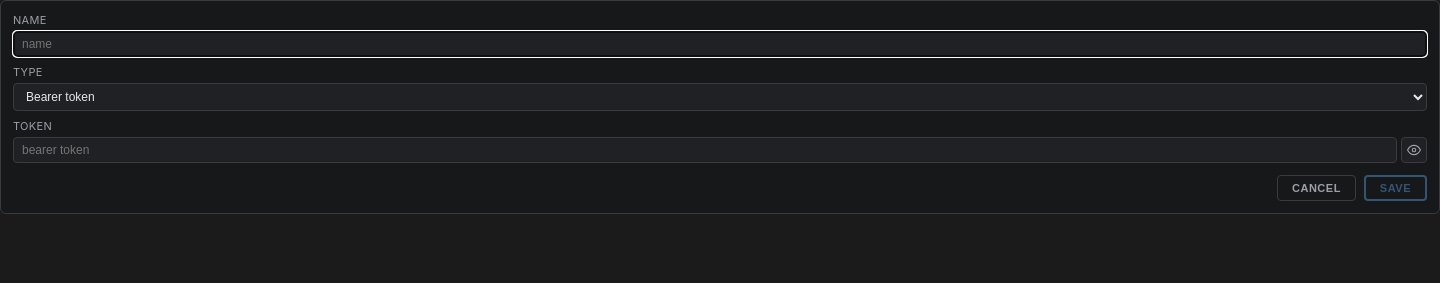
Test: CredentialForm › switching the Type select swaps the rendered field set
The width and height of the screenshot is (1440, 283).
Expected: the password field with placeholder "bearer token" is shown, [13,137,1397,163]
Step 1. Select "Basic auth" in the dropdown showing "Bearer token" → (720, 97), box [13,83,1427,111]
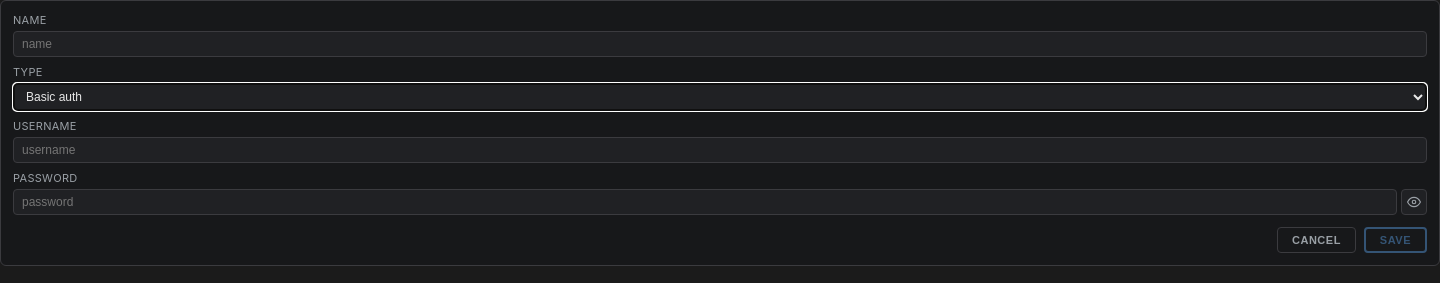
Expected: the password field with placeholder "Password" is shown, [13,189,1397,215]
Result: the password field with placeholder "bearer token" is gone
Result: the field with placeholder "Username" is shown at [13,137,1427,163]
